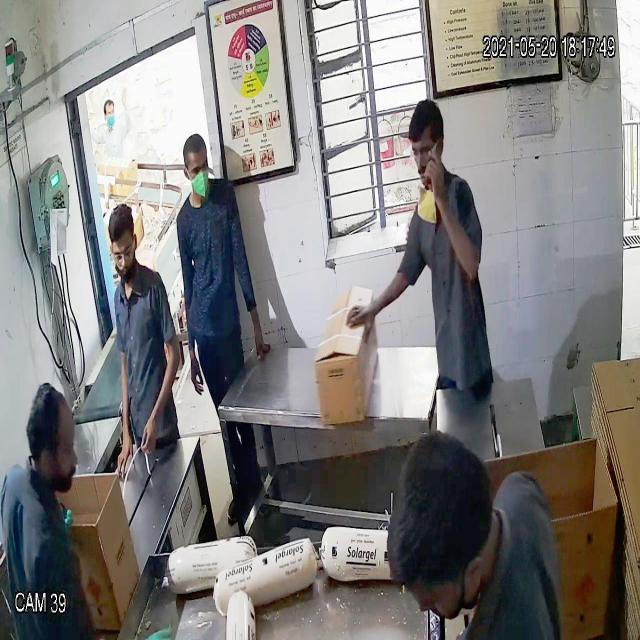glasses: (410, 138, 442, 170), (106, 237, 140, 265)
no-glass: (183, 158, 213, 182)
